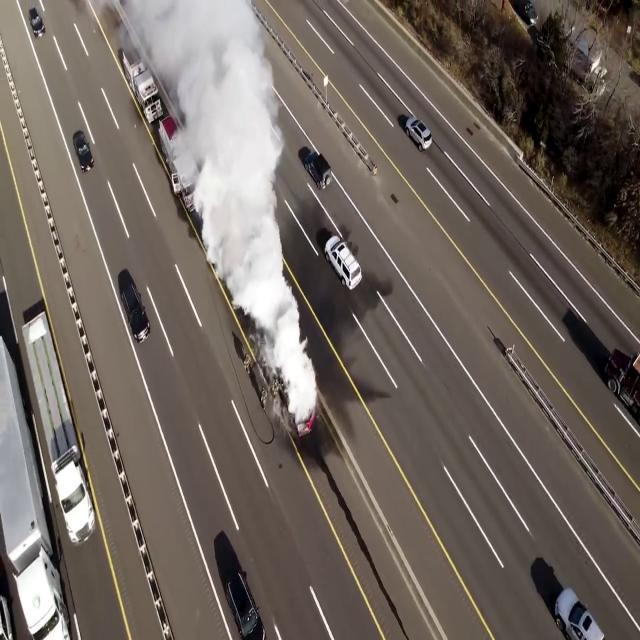Smoke: (170, 0, 320, 418)
